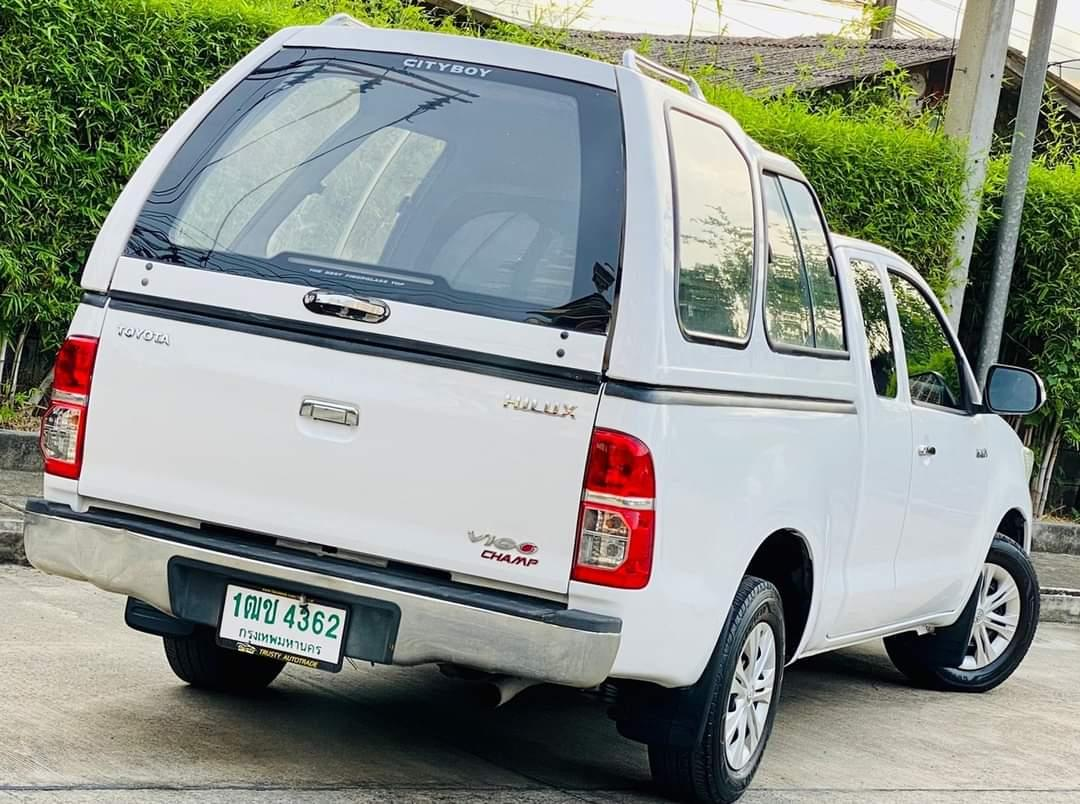license-plate: (212, 576, 356, 680)
